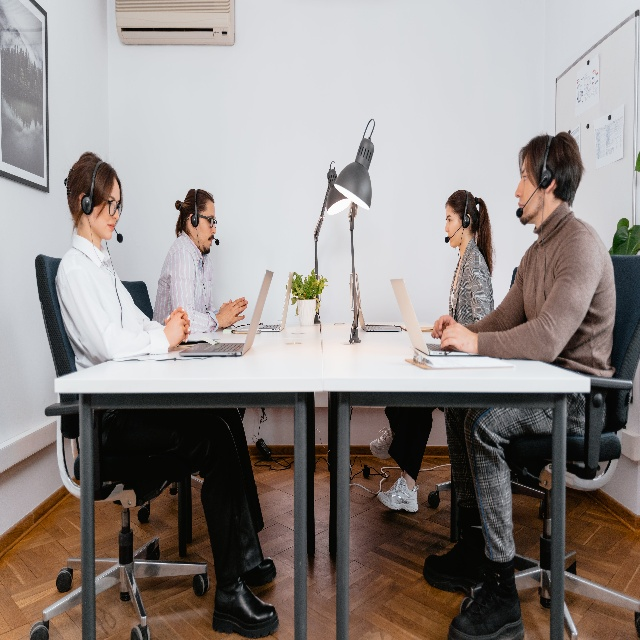Gafas: (103, 197, 122, 218), (197, 213, 217, 228)
Sin_guantes: (163, 307, 190, 349), (164, 306, 191, 345), (439, 323, 472, 354), (218, 297, 247, 329), (431, 313, 460, 340), (223, 297, 248, 327)
